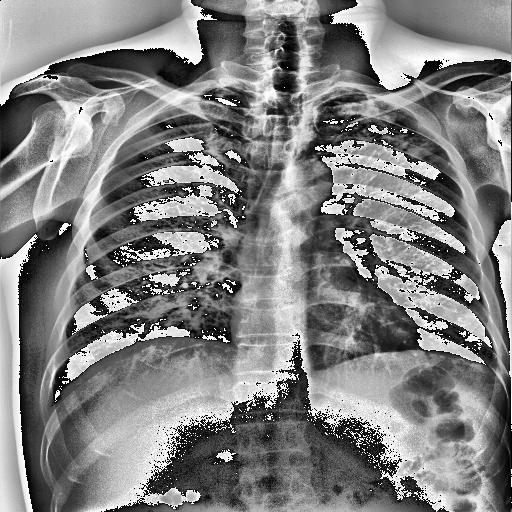10- Pleural effusion: (474, 354, 502, 382)
11- Pleural thickening: (163, 90, 215, 110), (474, 354, 502, 382)
13- Pulmonary fibrosis: (314, 94, 436, 162), (327, 96, 436, 162)
6- Infiltration: (313, 92, 443, 162), (314, 94, 436, 162)
7- Lung Opacity: (314, 94, 436, 162)
